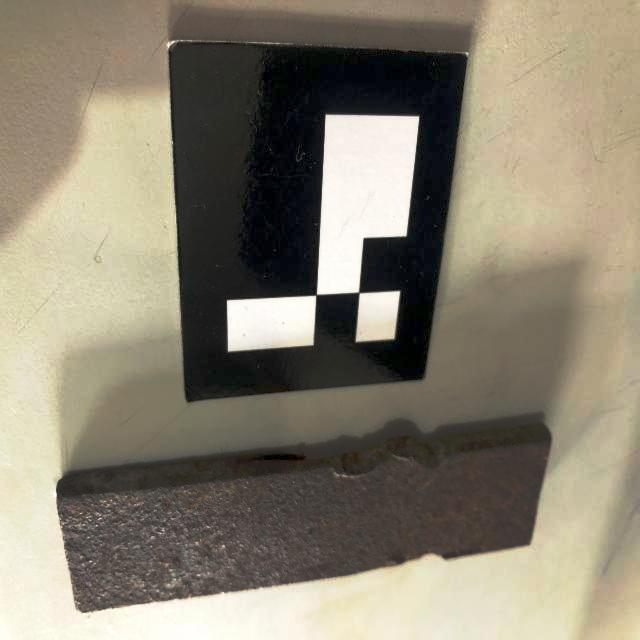Corrosion: (56, 423, 552, 614)
